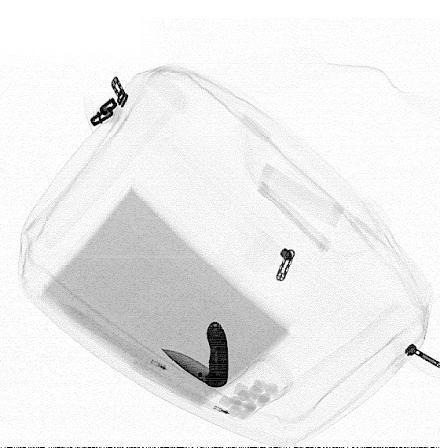Knife: (157, 320, 230, 390)
